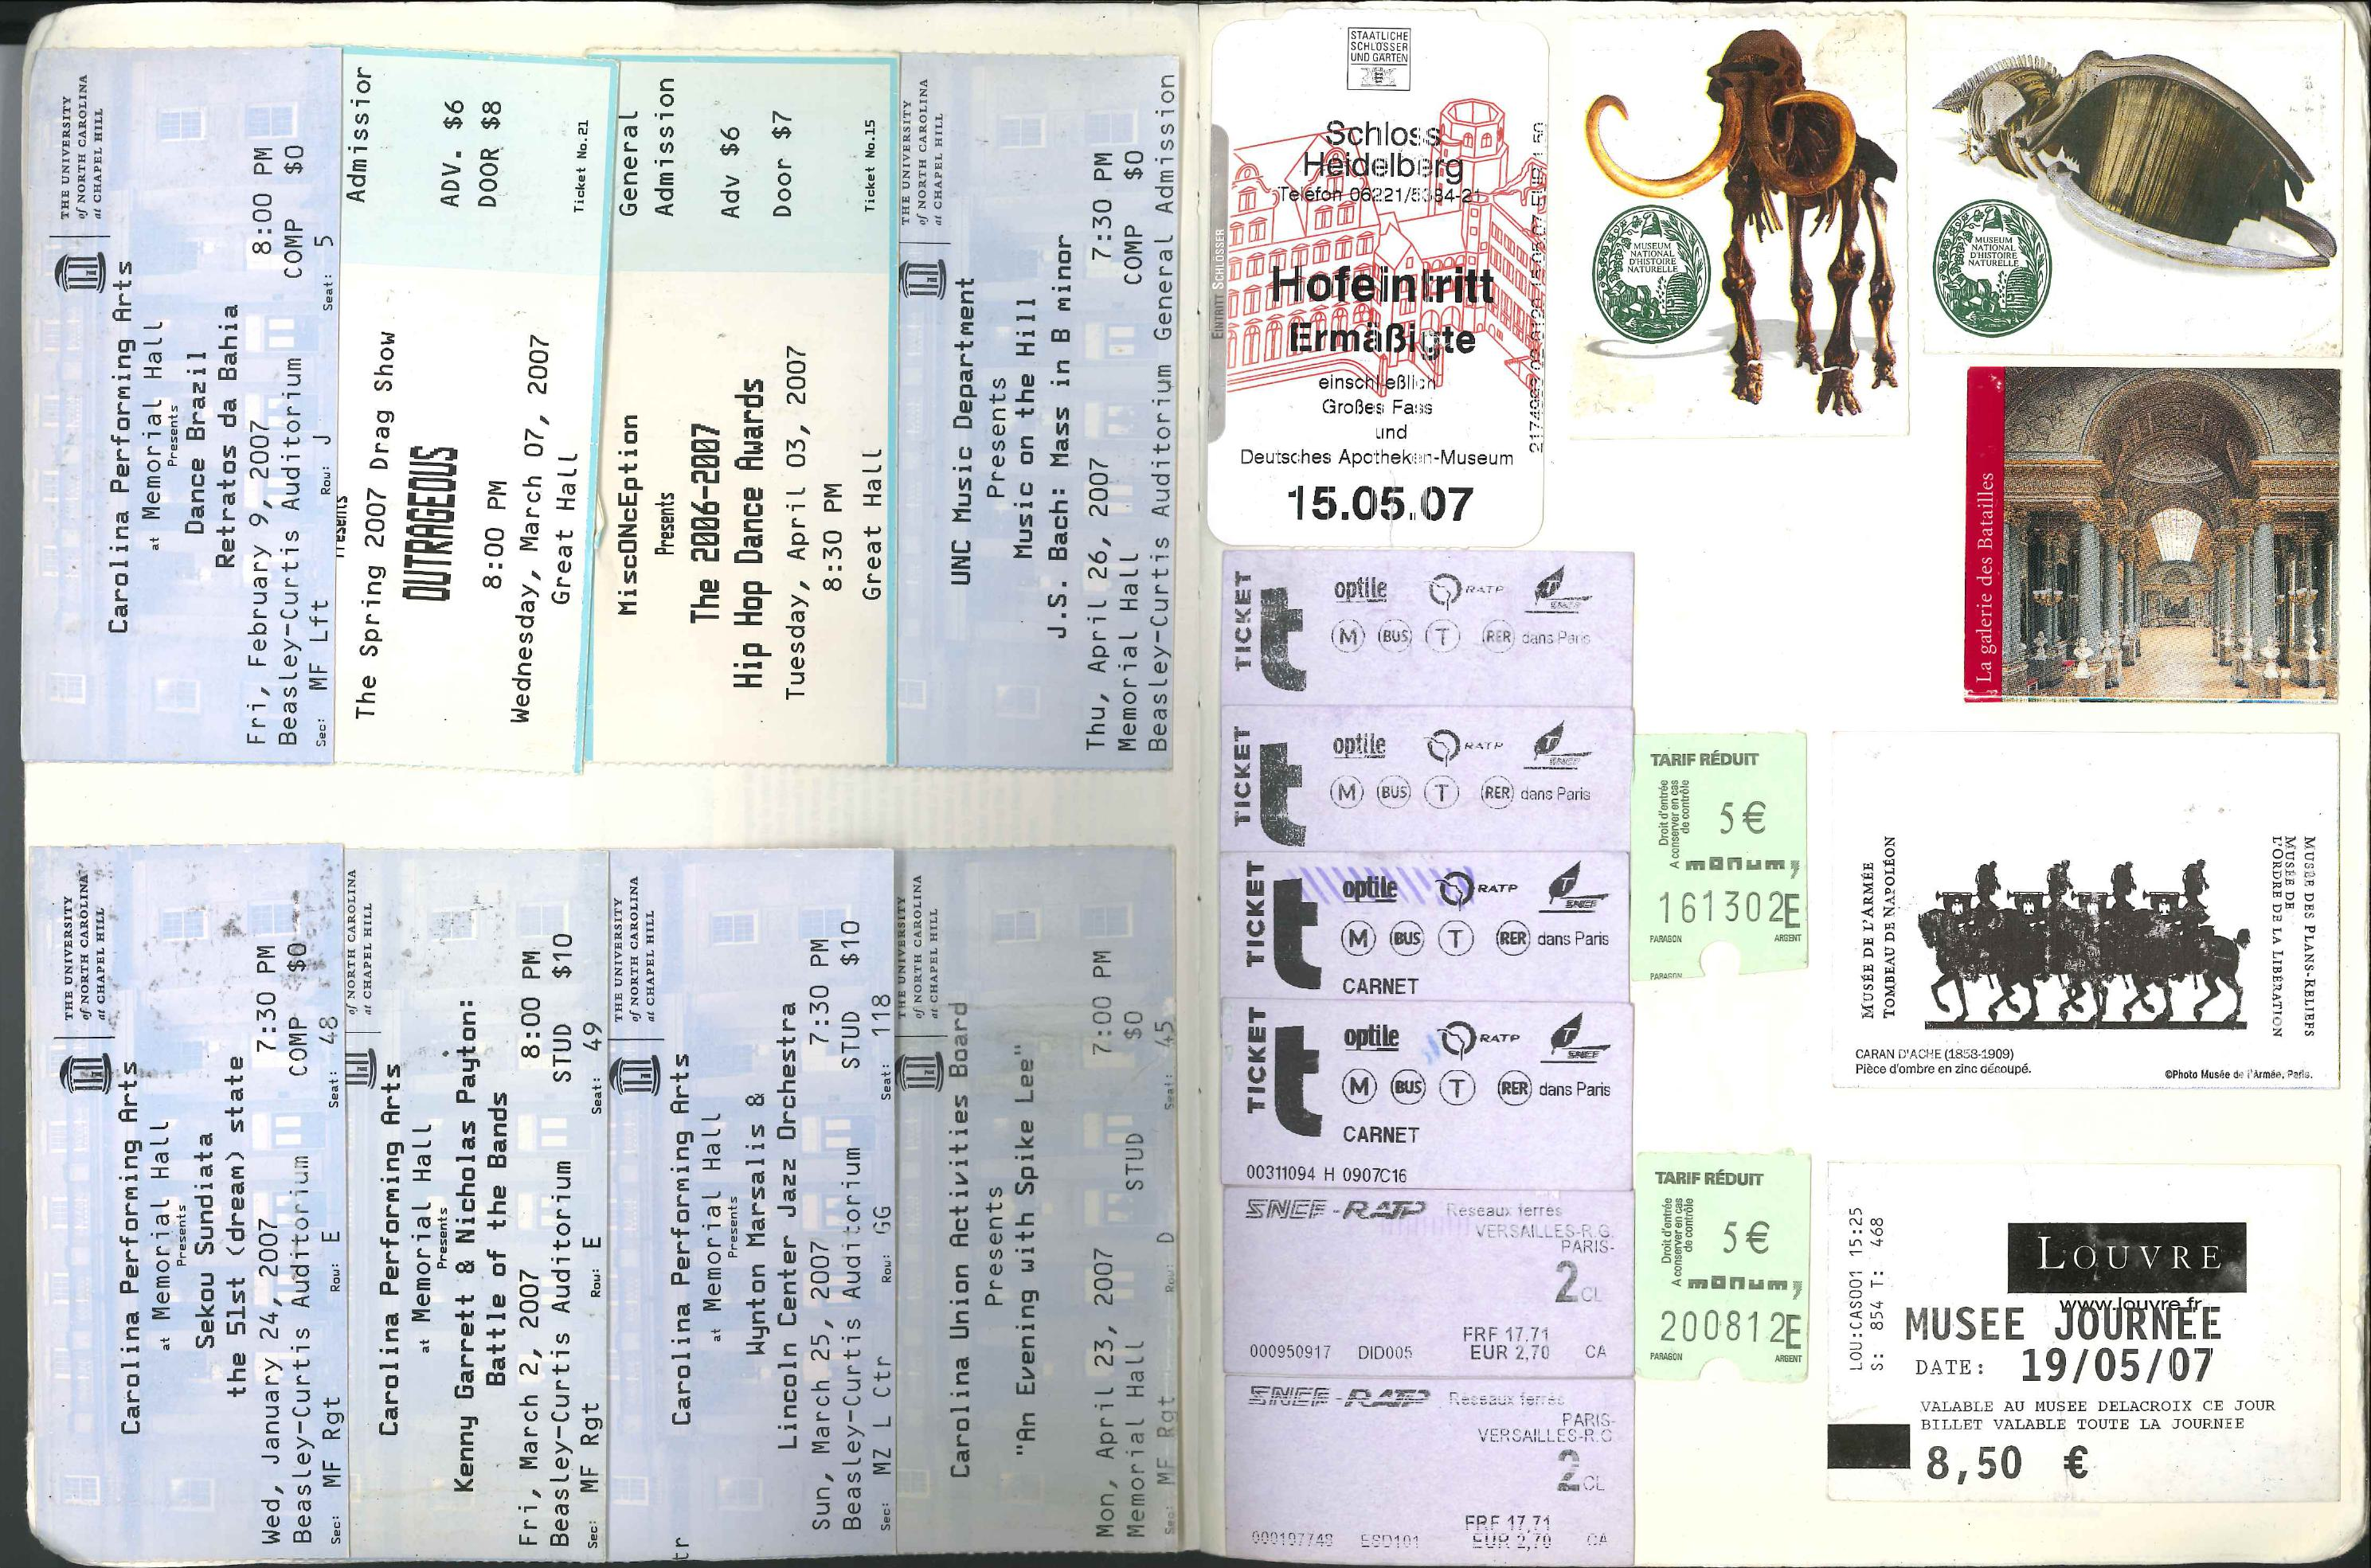stub: (26, 847, 352, 1561), (26, 45, 341, 770), (588, 56, 901, 770), (887, 845, 1202, 1547), (602, 845, 898, 1561), (892, 52, 1178, 772), (336, 850, 611, 1566), (1827, 730, 2345, 1092), (336, 52, 595, 765), (1207, 10, 1549, 541), (1827, 1158, 2341, 1505), (1543, 10, 1913, 437), (1911, 5, 2347, 357), (1967, 367, 2341, 705), (1214, 999, 1636, 1190), (1223, 1374, 1636, 1566), (1223, 1190, 1636, 1379), (1218, 847, 1633, 1001), (1225, 551, 1631, 705), (1223, 710, 1633, 852), (1622, 738, 1806, 975), (1633, 1151, 1811, 1386)
